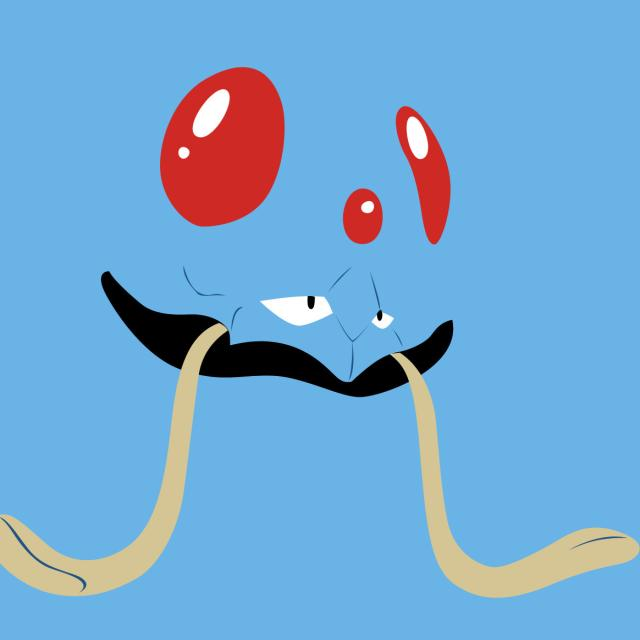Tentacool: (98, 56, 464, 442)
